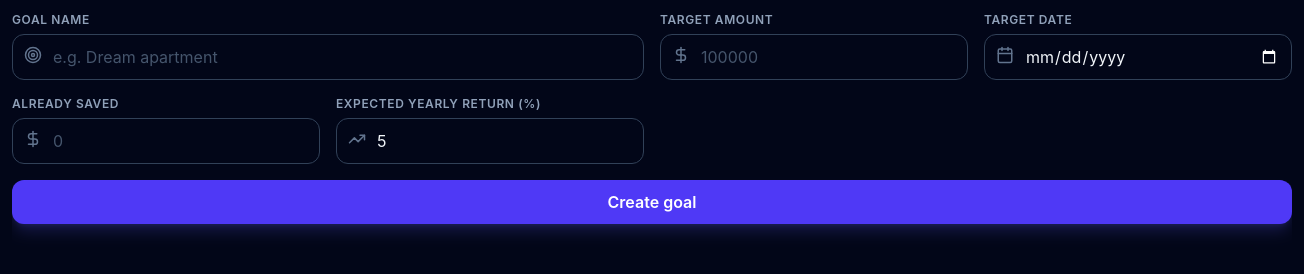
Test case: GoalForm › rejects a past date
Type "Car" into the field labelled "Goal name".
click(328, 57); type("Car")  # box [12,34,644,80]
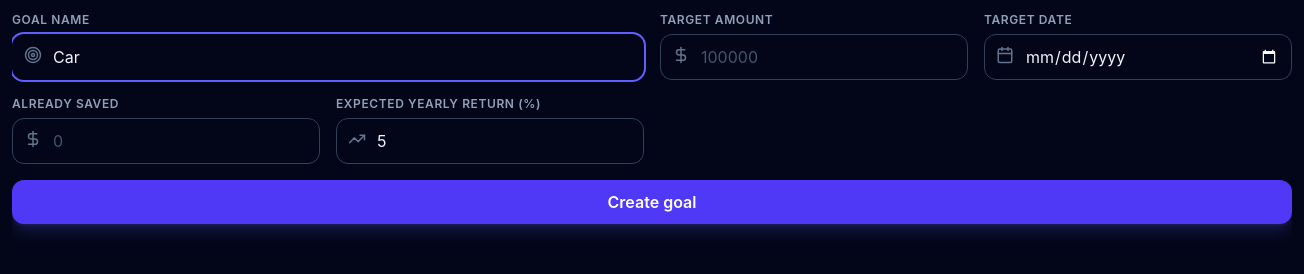
Type "50000" into the number field labelled "Target amount".
click(814, 57); type("50000")  # box [660,34,968,80]
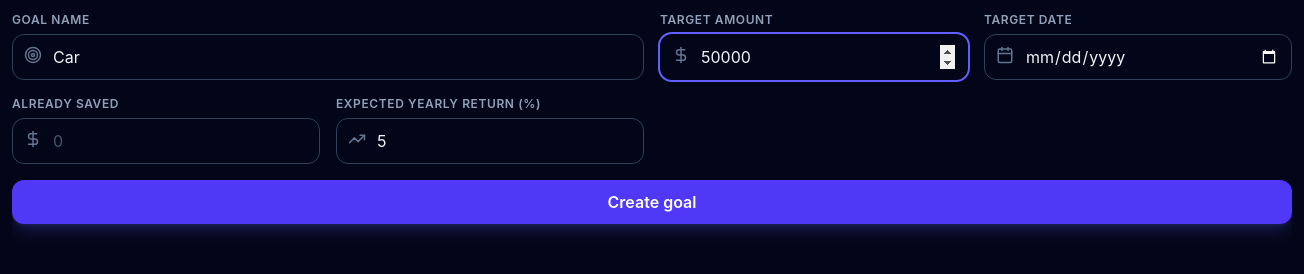
Type "2001-01-01" into the date field labelled "Target date".
click(1138, 57); type("2001-01-01")  # box [984,34,1292,80]
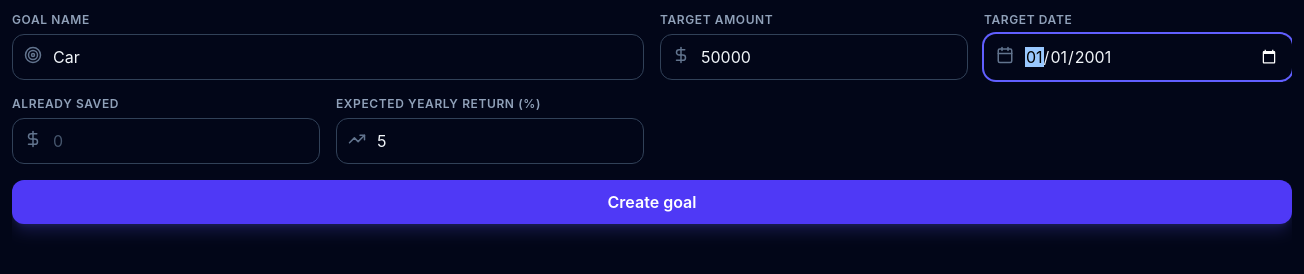
Click the button "Create goal".
click(652, 202)  # box [12,180,1292,224]
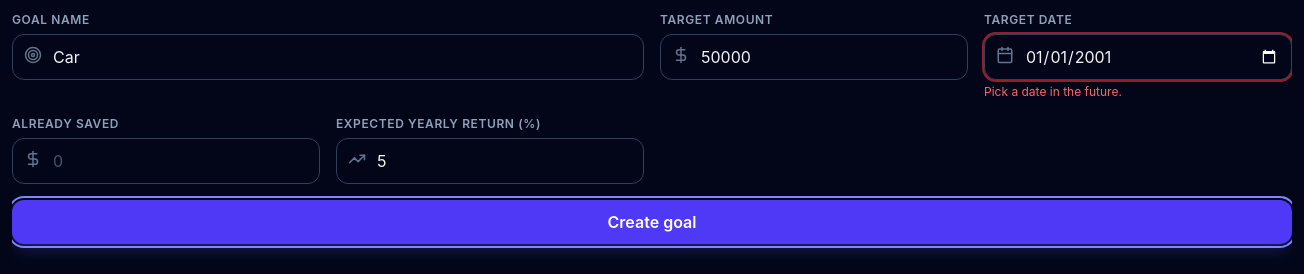
Now the text "Pick a date in the future." is shown, box [984,84,1122,99]
